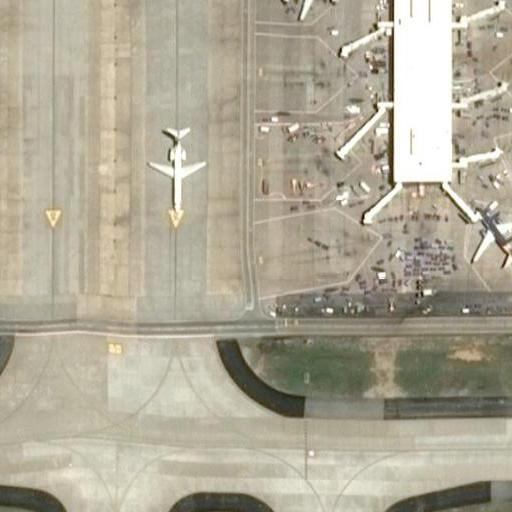Aircraft: (152, 118, 209, 217), (467, 196, 512, 271), (270, 0, 340, 20), (493, 0, 512, 14)
